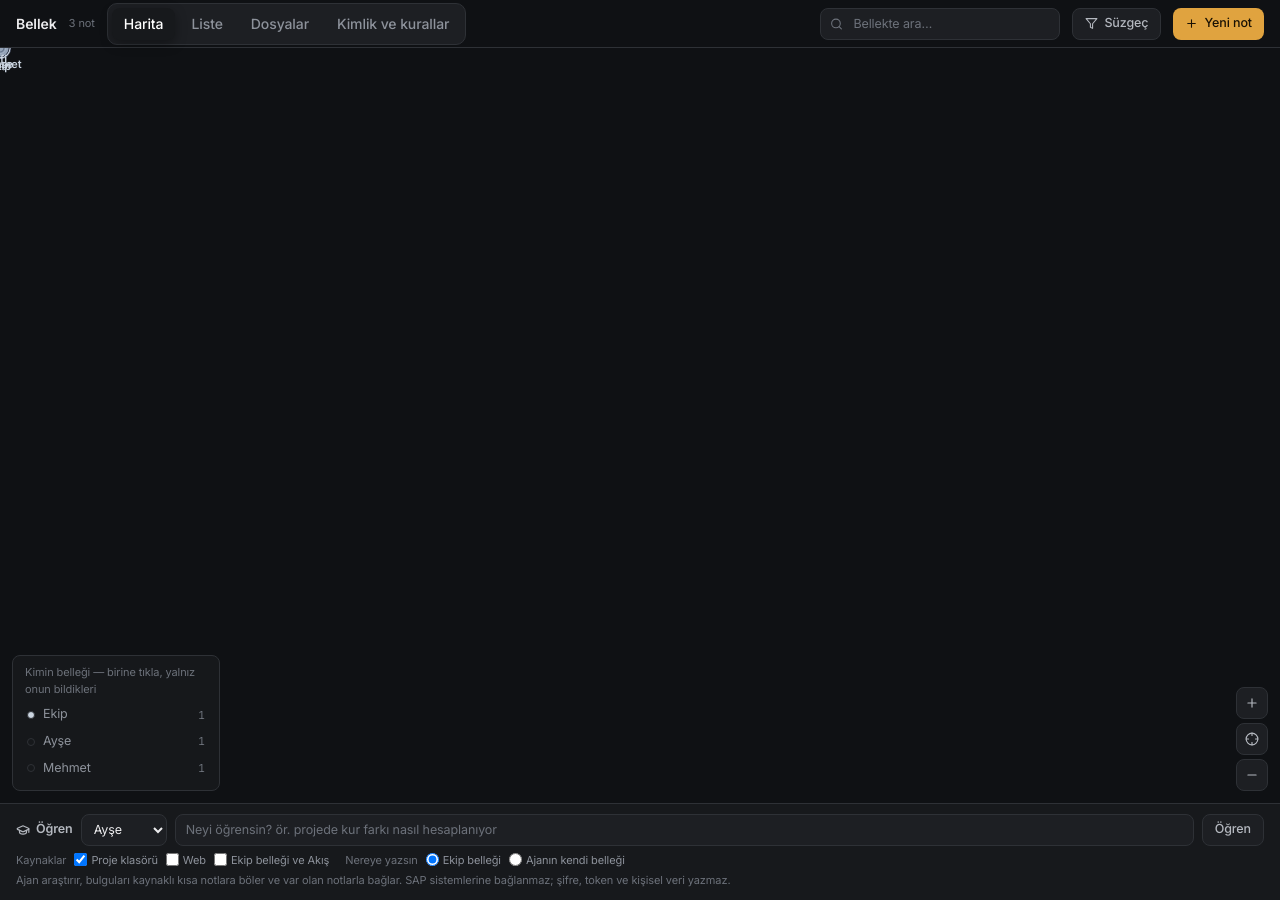
Test case: MemoryBrain — harita › yeni not: ekip belleğine, kaynak kullanıcı; sonra ayrıntıda açılır
The image size is (1280, 900).
Click the button "Yeni not": coordinates (1219, 24) [1174,8,1264,40]
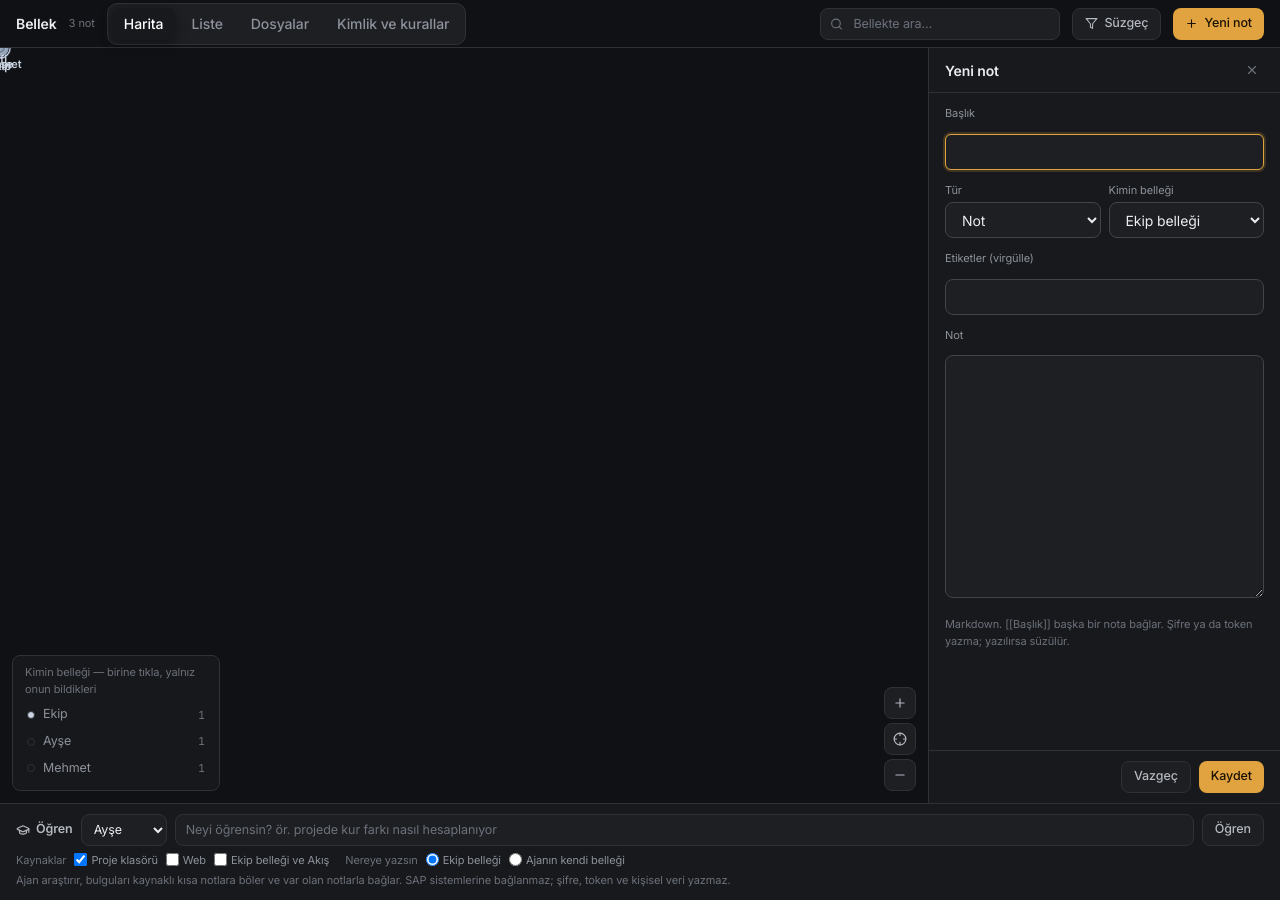
In the field labelled "Başlık": coordinates (1104, 152) [945,134,1264,170], type "SAP sistemi DS4"
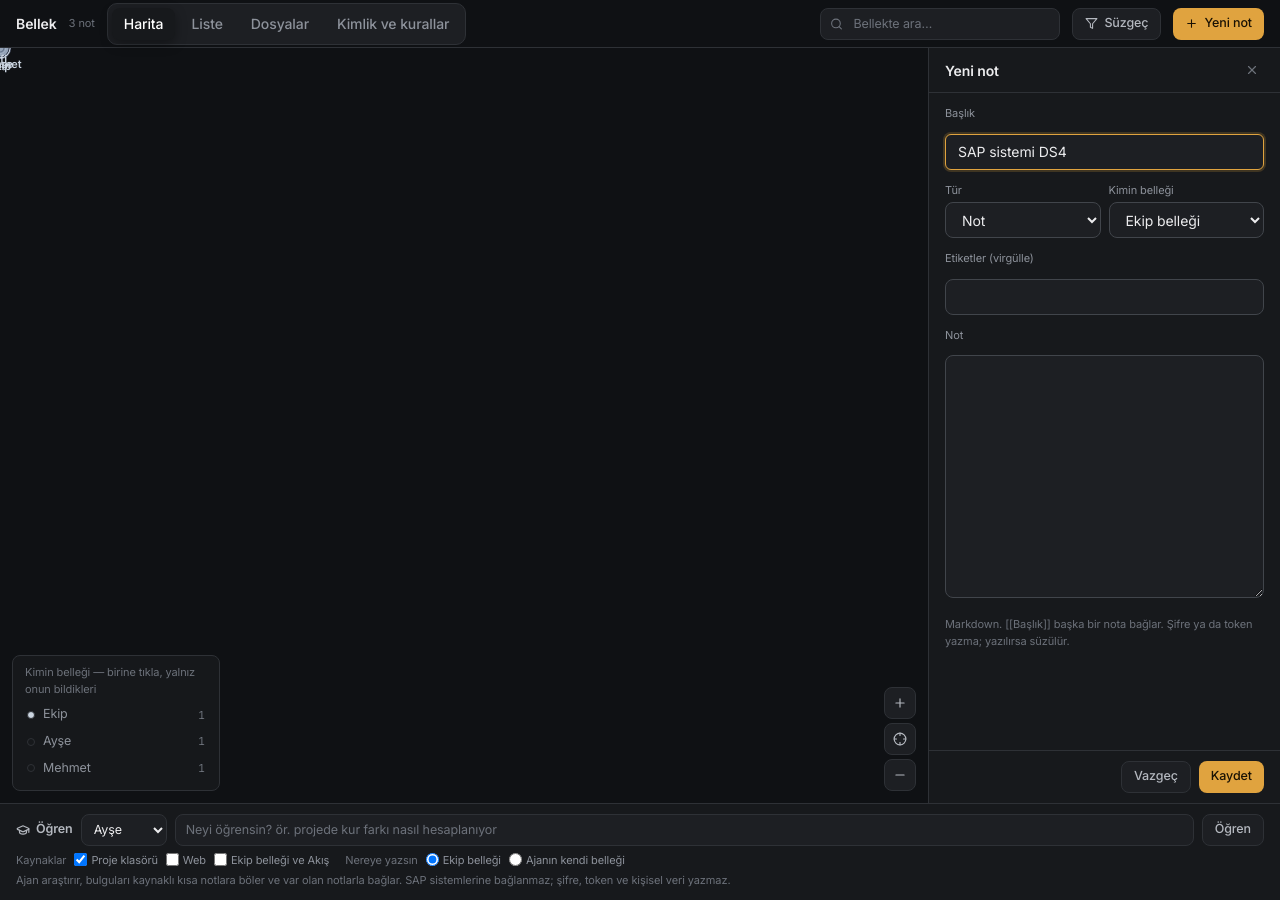
Select "Kişi / sistem" in the dropdown labelled "Tür": coordinates (1023, 220) [945,202,1100,238]
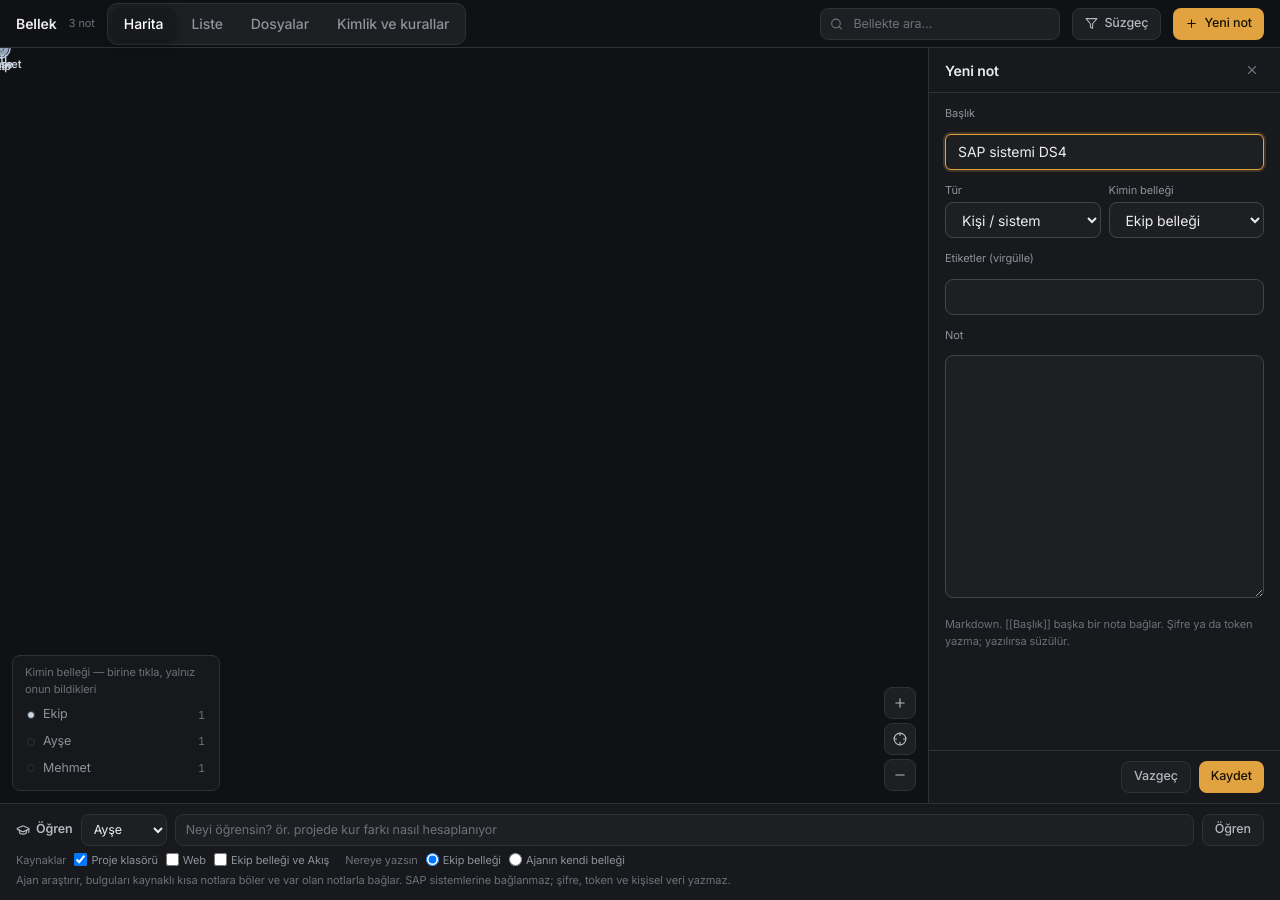
Click the button "Kaydet": coordinates (1231, 777) [1199,761,1264,793]
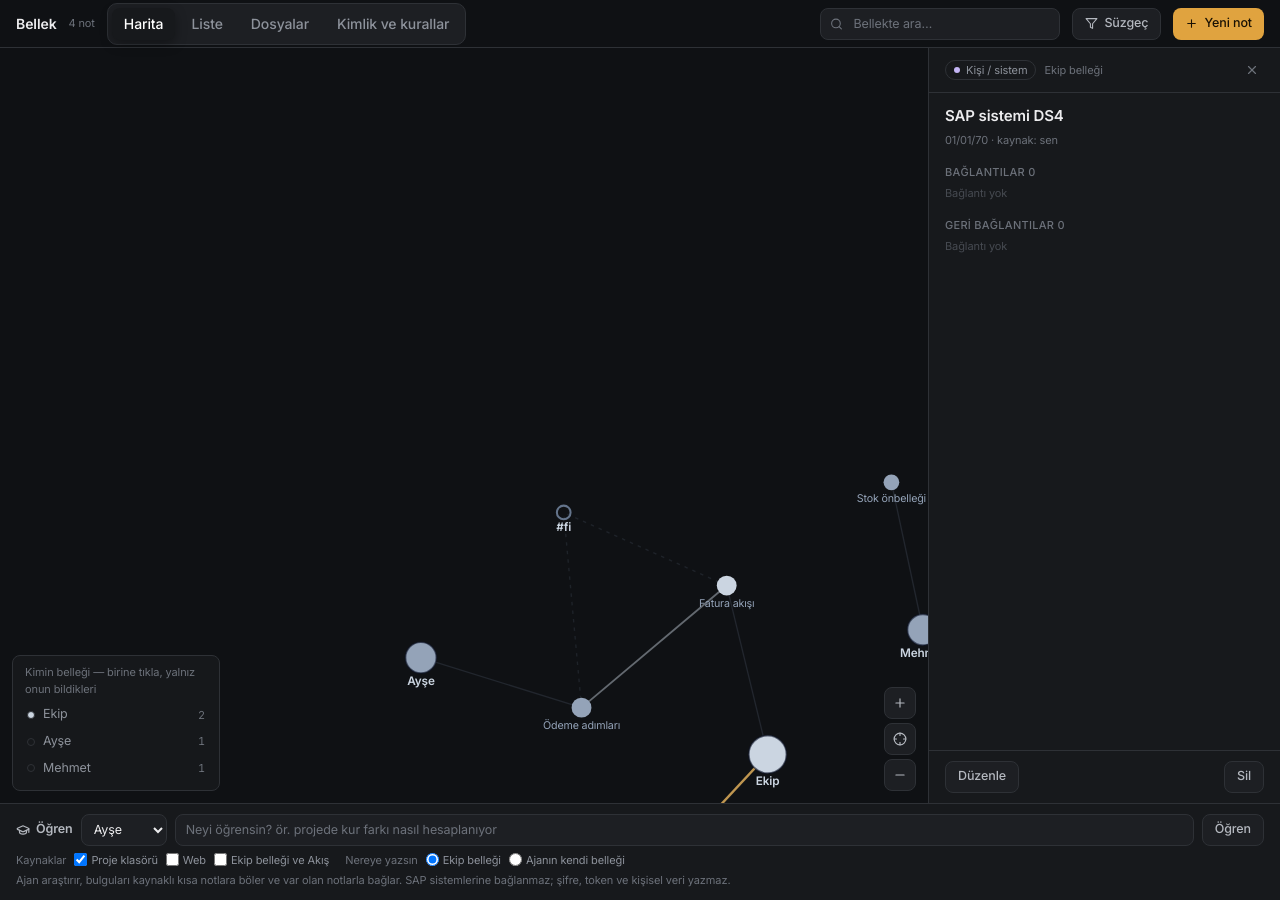
Check: the heading "SAP sistemi DS4" is shown, box [945,106,1064,125]
